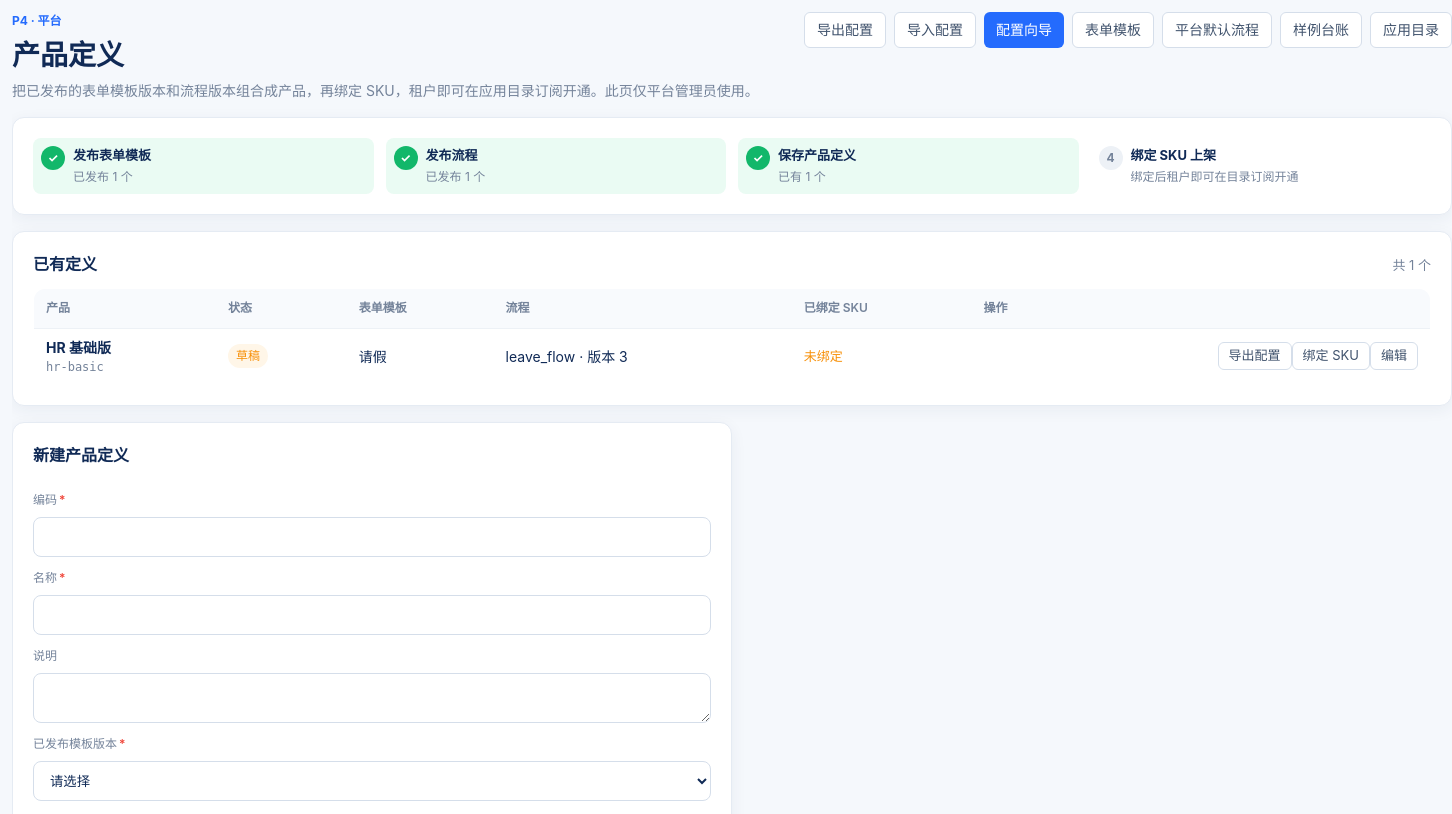
Test case: IM7 export config against real API › shows S-shell error without fake success when export fails
The width and height of the screenshot is (1452, 814).
Step 1. Click the button with test id "export-config-hr-basic" → (1255,356), box [1218,342,1292,370]
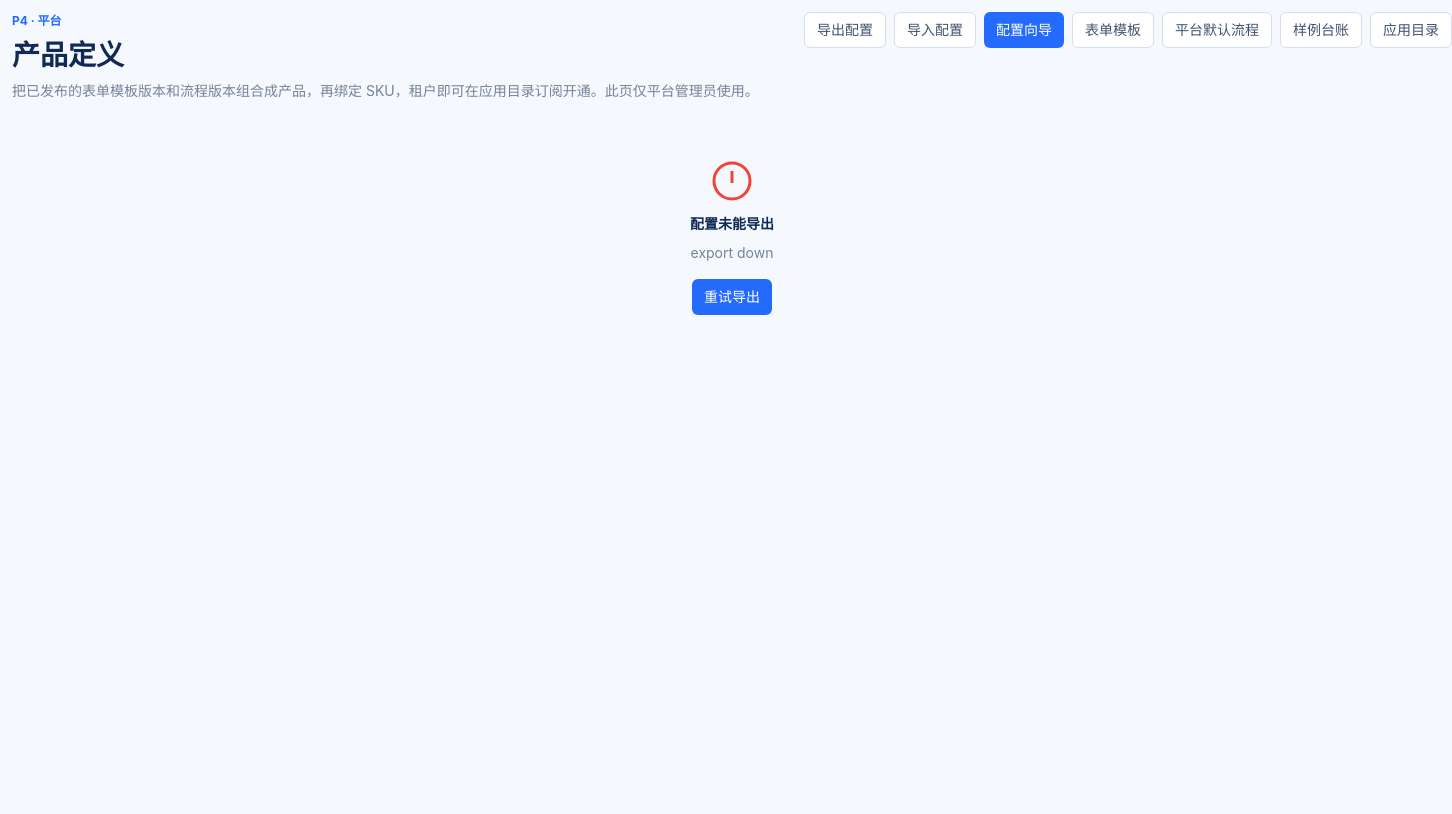
Expected: the message with test id "export-config-error" shows "配置未能导出", [690,215,774,232]
Expected: the message with test id "export-config-error" shows "export down", [690,244,773,261]
